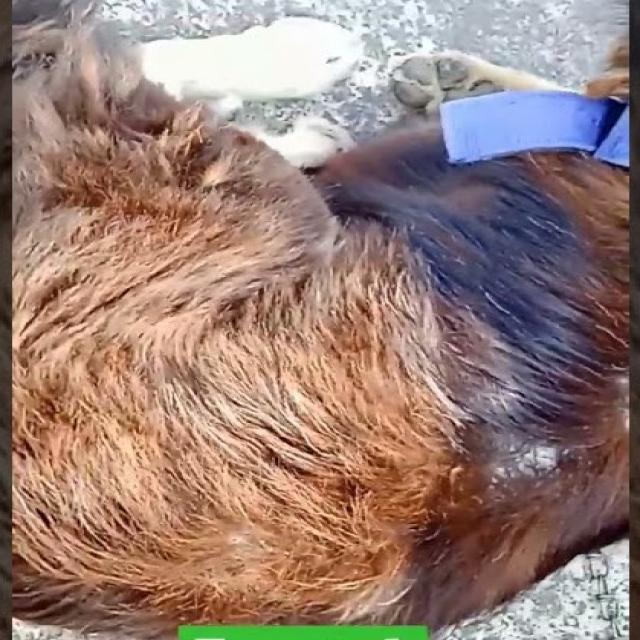fungal infection: (440, 205, 594, 398), (316, 140, 546, 238), (457, 406, 615, 492), (406, 507, 516, 616), (523, 479, 632, 541)
